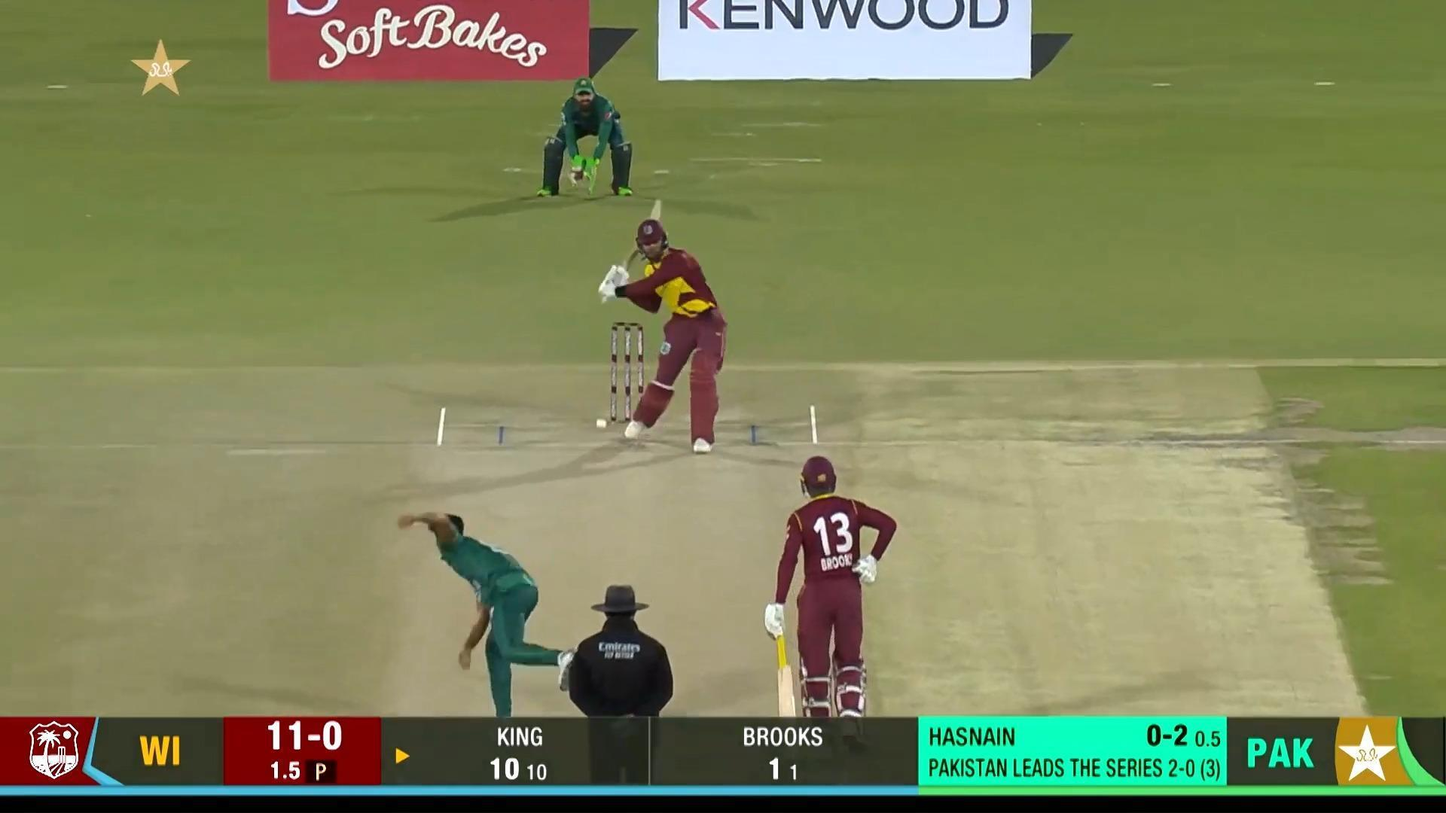BM 1: (599, 195, 729, 456)
BO: (396, 509, 576, 716)
